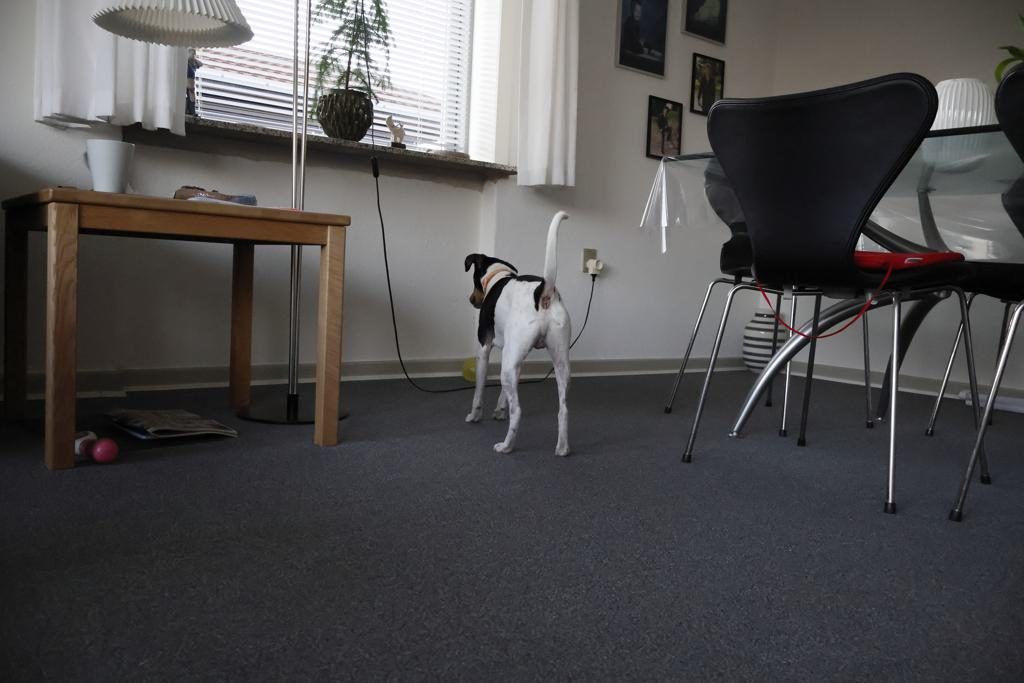Dog: (454, 184, 583, 473)
